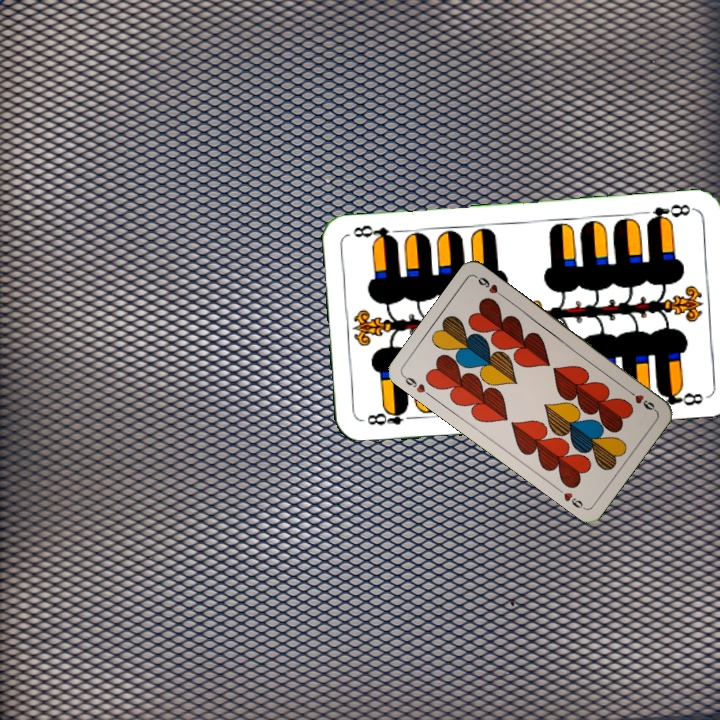E8: (642, 200, 694, 227), (363, 403, 419, 428)
H9: (623, 385, 658, 414), (399, 372, 435, 400)
